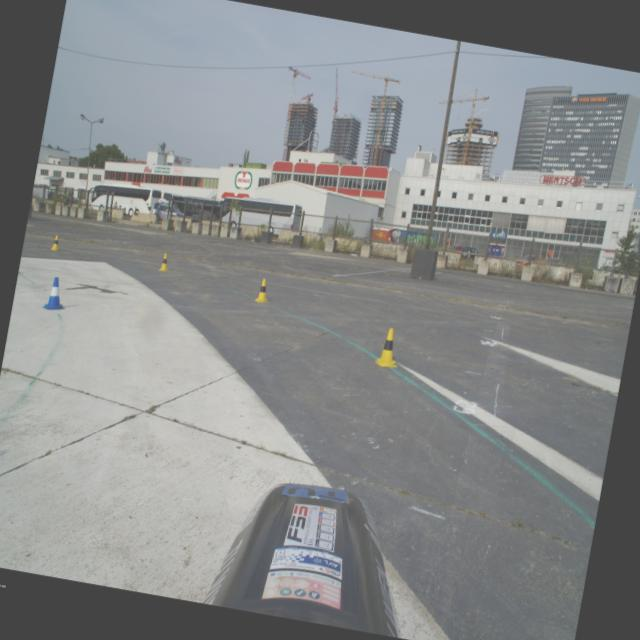blue_cone: (41, 275, 69, 312)
yellow_cone: (374, 326, 404, 369), (254, 277, 272, 303), (157, 252, 172, 272), (49, 234, 62, 251)
